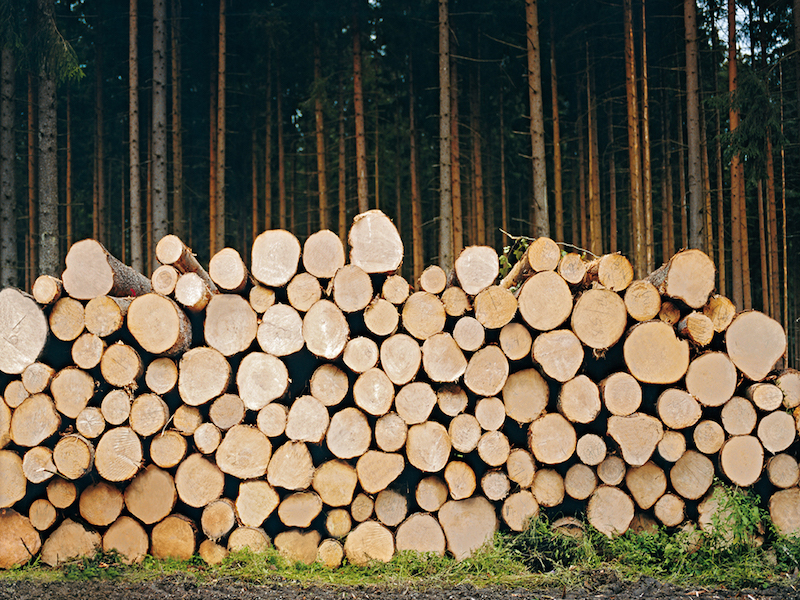combustible: (16, 264, 782, 567)
